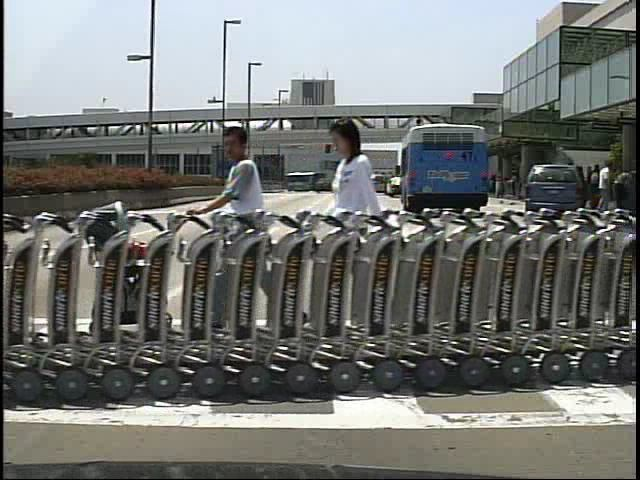person: (197, 121, 282, 348), (324, 117, 393, 349), (585, 163, 604, 216), (595, 161, 615, 211)
